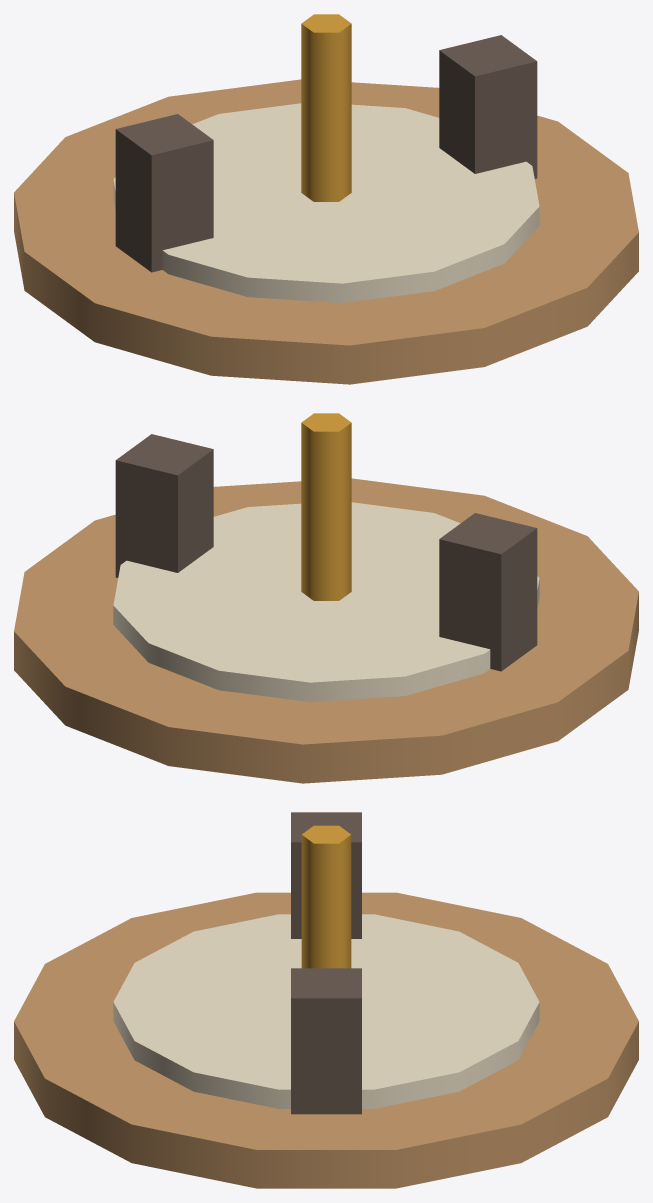
File: xiu_lian_qu.glb
3 views of the same model, one above another, from view 1: azimuth 30°, elevation 25°; view 2: azimuth 150°, elevation 25°; view 3: azimuth 270°, elevation 25° (orthographic).
Visible parts, largest first — view 1: _MeshInstance3D_143, _MeshInstance3D_144, _MeshInstance3D_145, _MeshInstance3D_146, _MeshInstance3D_147; view 2: _MeshInstance3D_143, _MeshInstance3D_144, _MeshInstance3D_145, _MeshInstance3D_146, _MeshInstance3D_147; view 3: _MeshInstance3D_143, _MeshInstance3D_144, _MeshInstance3D_146, _MeshInstance3D_147, _MeshInstance3D_145.
Part boxes in pixels (x1,y1,x2,y2): _MeshInstance3D_143: (14, 79, 638, 384); _MeshInstance3D_144: (113, 103, 539, 302); _MeshInstance3D_145: (115, 114, 213, 272); _MeshInstance3D_146: (439, 35, 537, 178); _MeshInstance3D_147: (301, 14, 351, 201); _MeshInstance3D_143: (14, 478, 638, 783); _MeshInstance3D_144: (113, 502, 539, 701); _MeshInstance3D_145: (439, 513, 537, 671); _MeshInstance3D_146: (115, 434, 213, 577); _MeshInstance3D_147: (301, 413, 351, 600); _MeshInstance3D_143: (14, 892, 638, 1188); _MeshInstance3D_144: (113, 914, 539, 1108); _MeshInstance3D_146: (291, 968, 361, 1114); _MeshInstance3D_147: (301, 825, 351, 968); _MeshInstance3D_145: (291, 812, 361, 938).
Size of the model in its own units: 0.8579 by 0.35 by 0.88.
